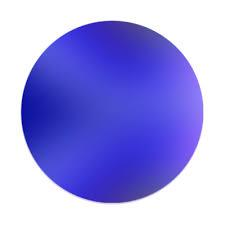blue_circle: (20, 21, 204, 205)
